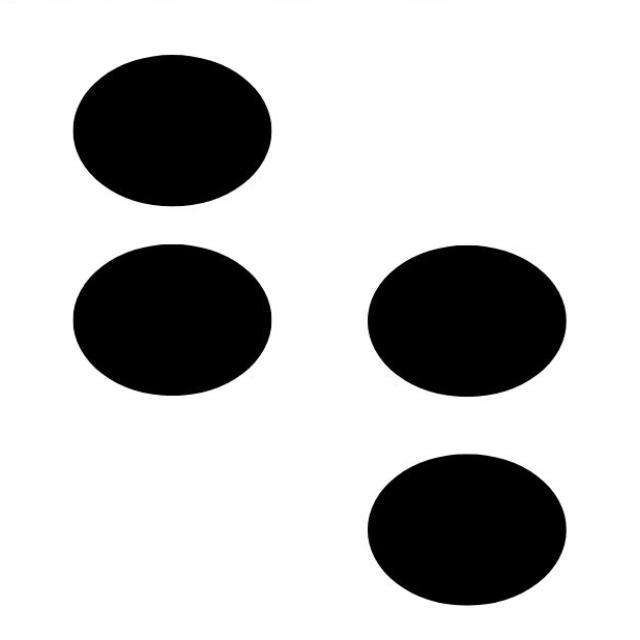one_cell_part_word_tu: (72, 50, 568, 608)
